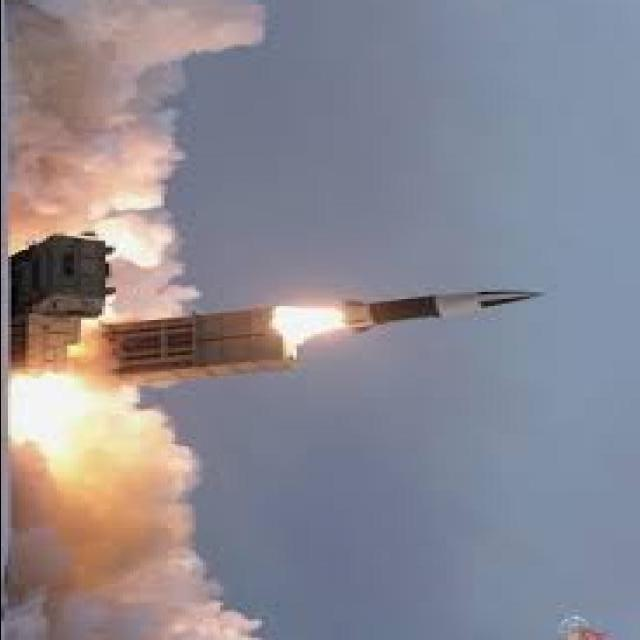missile: (343, 282, 543, 334)
